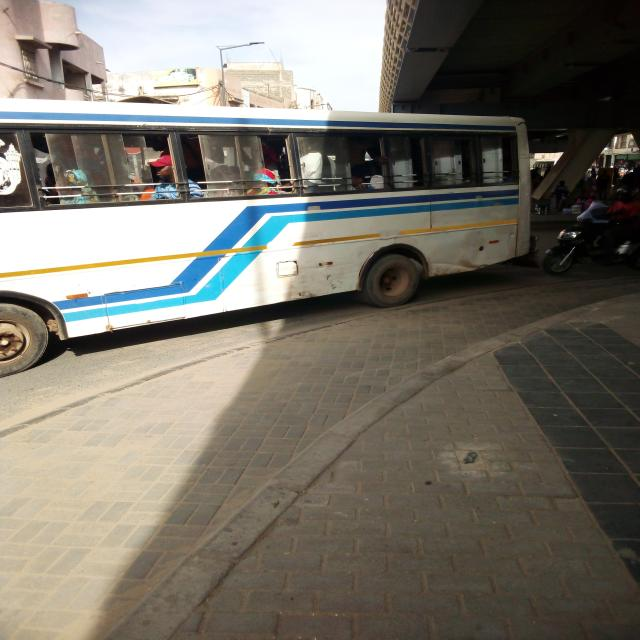bus tata: (1, 101, 531, 376)
moto: (544, 189, 640, 276)
